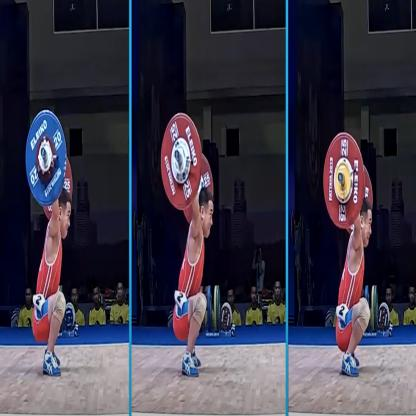Barbell: (318, 118, 369, 235), (159, 106, 208, 220), (23, 102, 72, 210)
